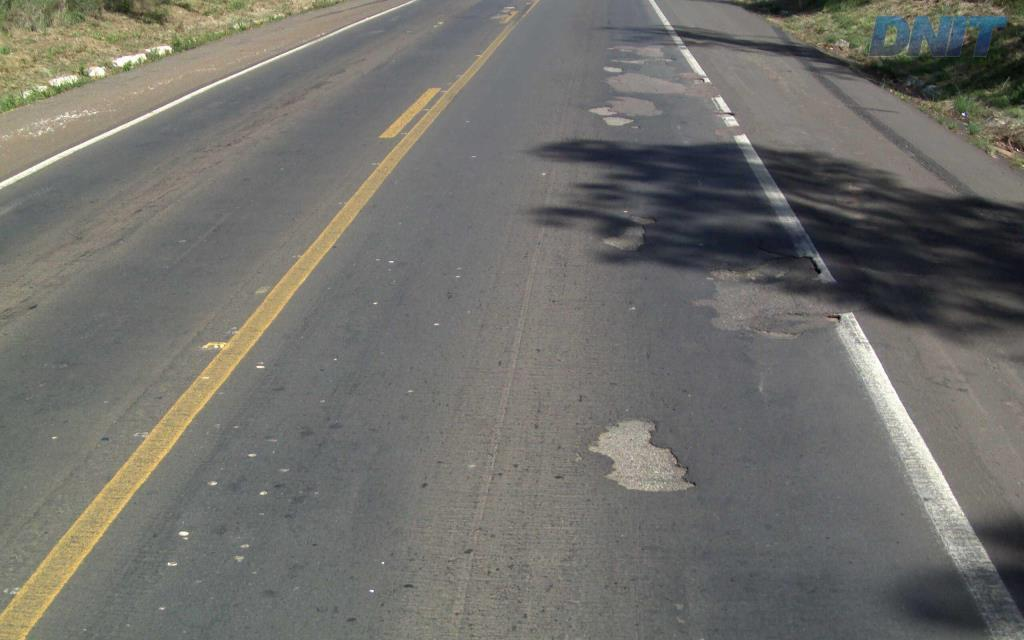pothole: (583, 414, 703, 498), (702, 244, 820, 287), (596, 212, 657, 257), (589, 102, 634, 128), (738, 323, 807, 339), (601, 61, 628, 72), (819, 310, 841, 323), (691, 77, 703, 83)
